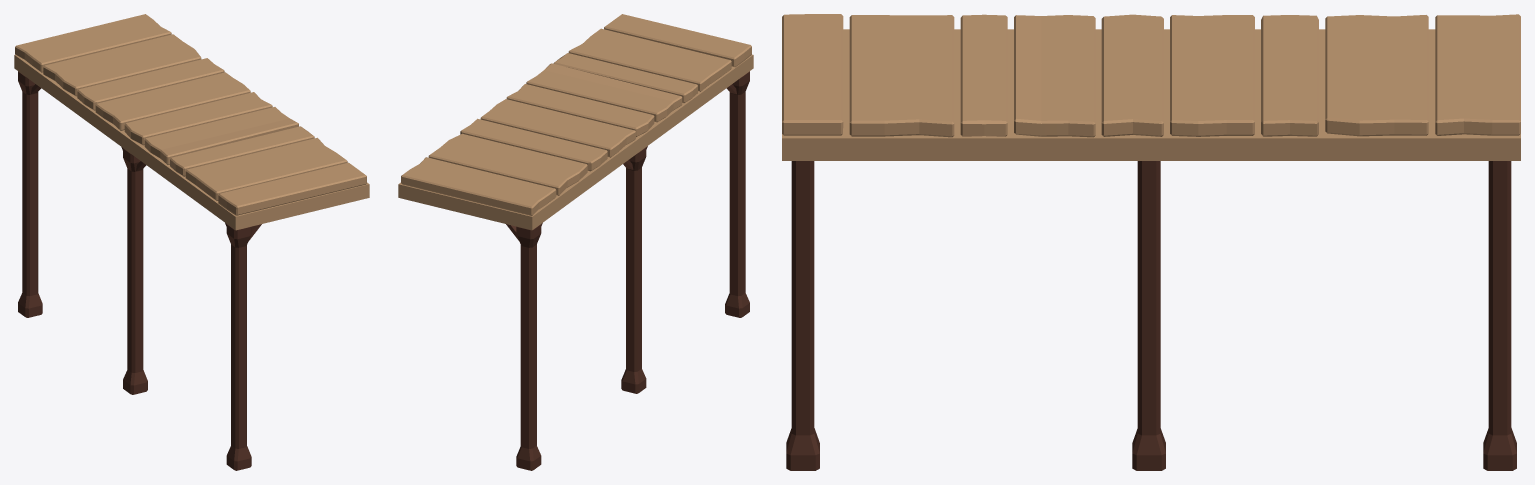
File: balcony-a.glb
3 views of the same model, side by side, from view 1: azimuth 30°, elevation 25°; view 2: azimuth 150°, elevation 25°; view 3: azimuth 270°, elevation 25° (orthographic). The views are drawn at different scales.
Visible parts, largest first — view 1: Balcony A (×2); view 2: Balcony A (×2); view 3: Balcony A (×2).
Boxes of the visible parts, <box> form: Balcony A (×2): <box>14,14,369,470</box>; Balcony A (×2): <box>398,14,753,470</box>; Balcony A (×2): <box>782,14,1520,470</box>.
Size of the model in its own units: 1.15 by 2.2 by 3.3.
